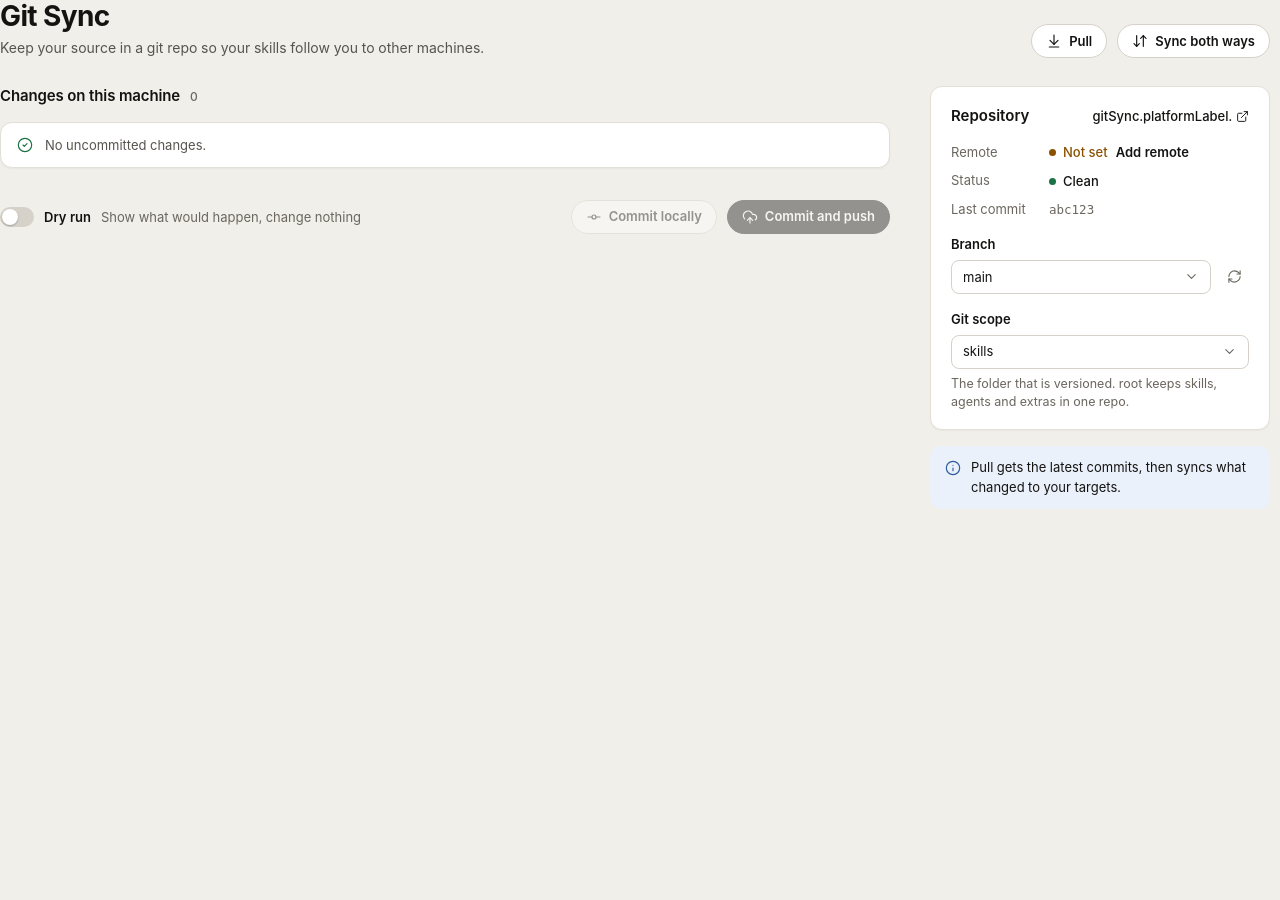
Scenario: updates from another computer › stops before pushing when syncing both ways hits a conflict
This screenshot has width=1280, height=900.
Click the button "Sync both ways".
click(1194, 42)  # box [1117, 24, 1270, 58]
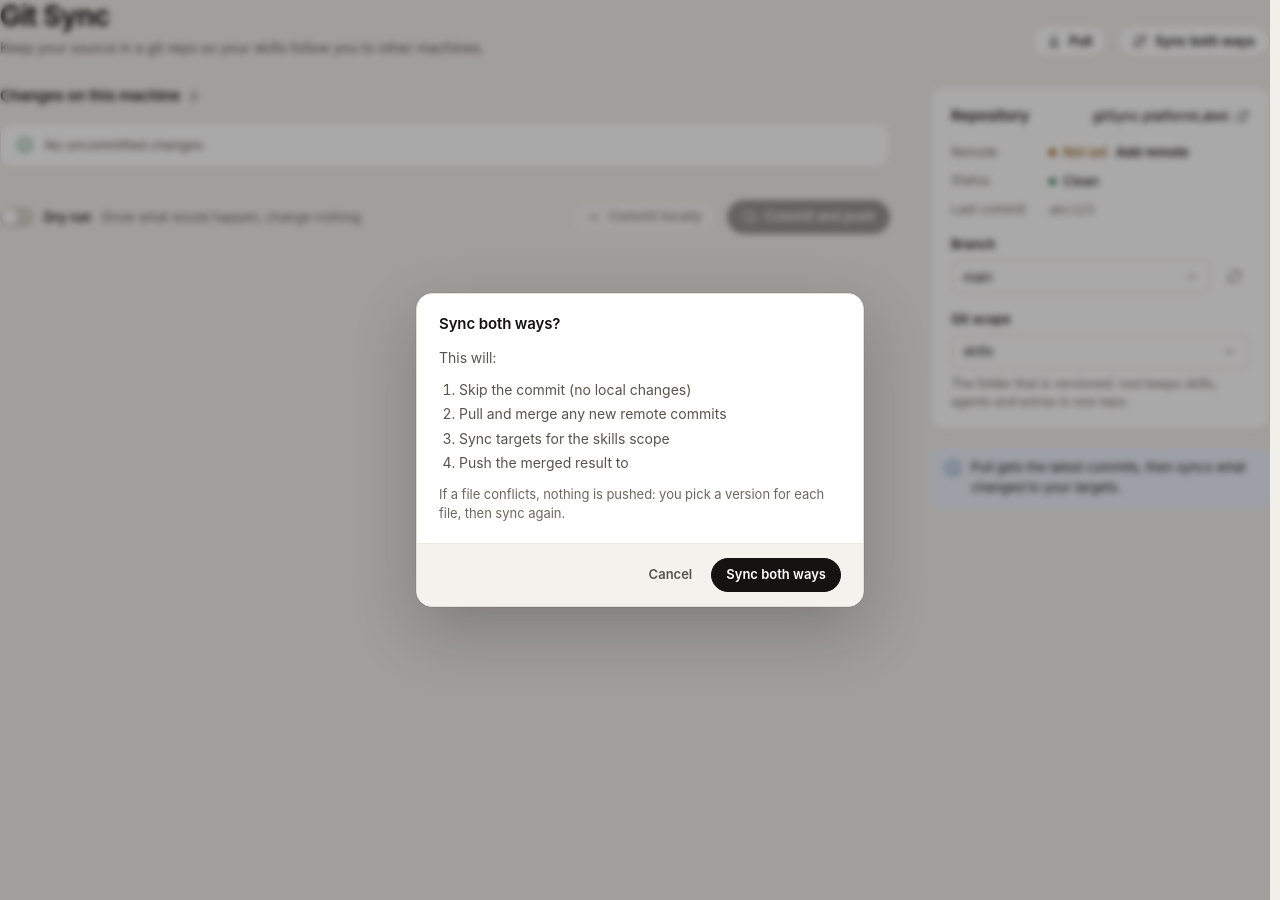
Click the button "Sync both ways".
click(776, 575)  # box [711, 558, 841, 592]
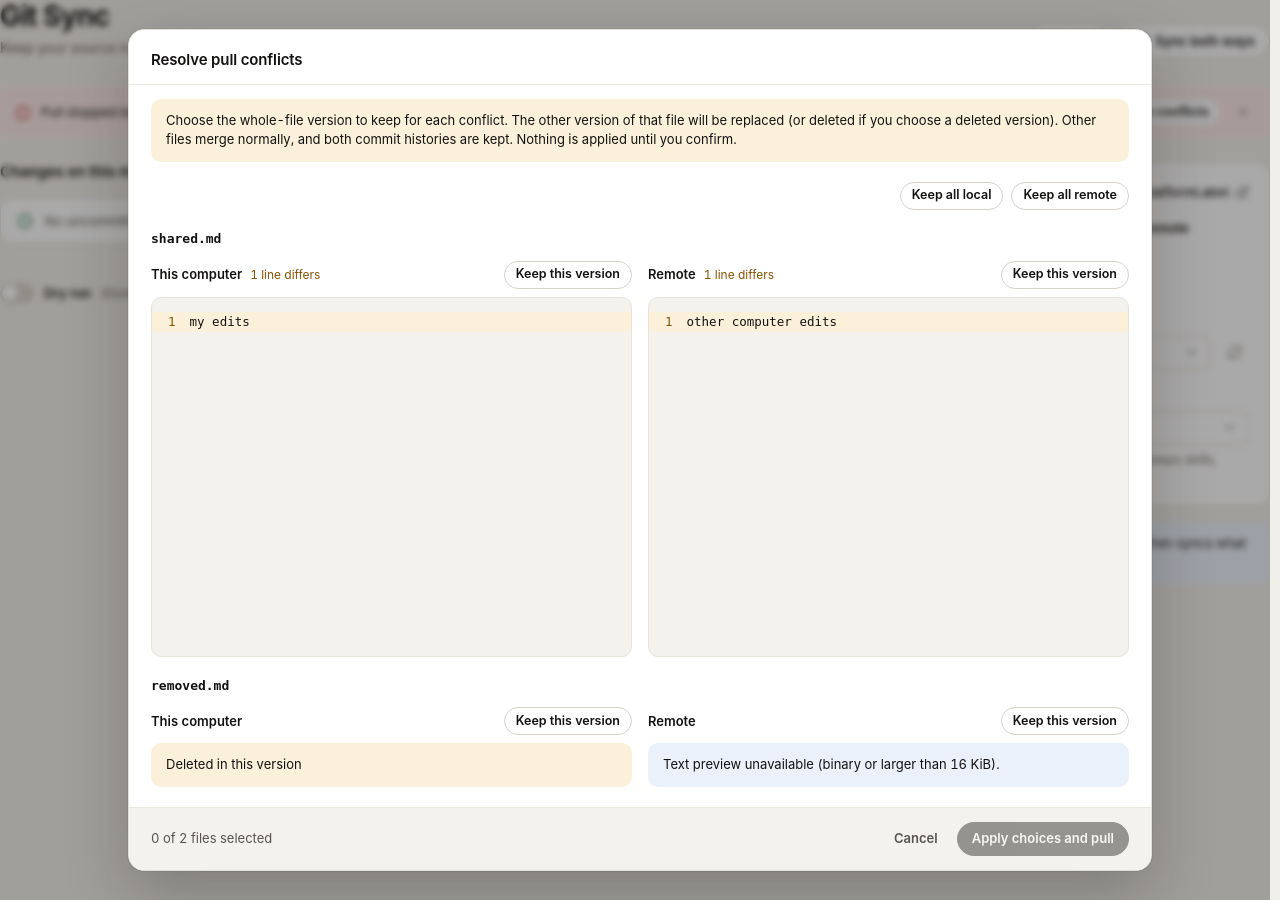
Check: the dialog "Resolve pull conflicts" is shown
